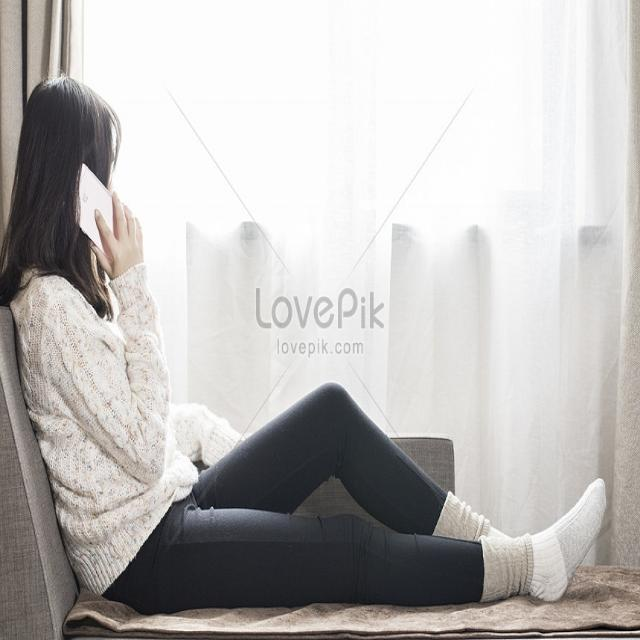phone: (59, 148, 150, 292)
